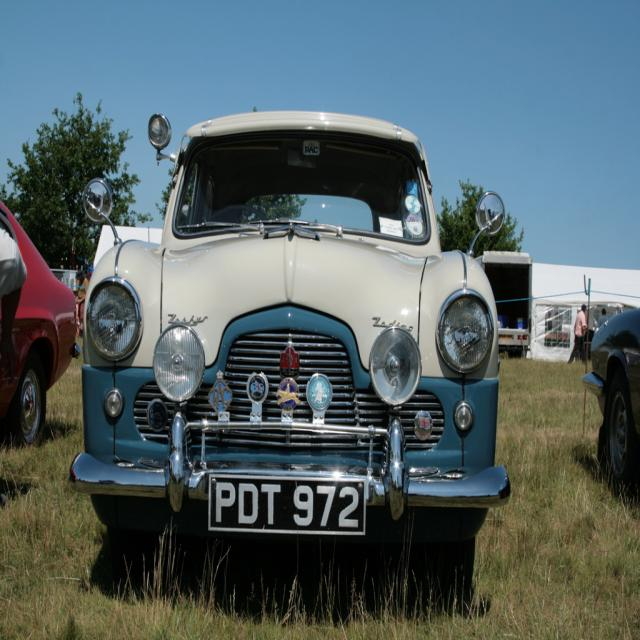car: (64, 104, 514, 610)
